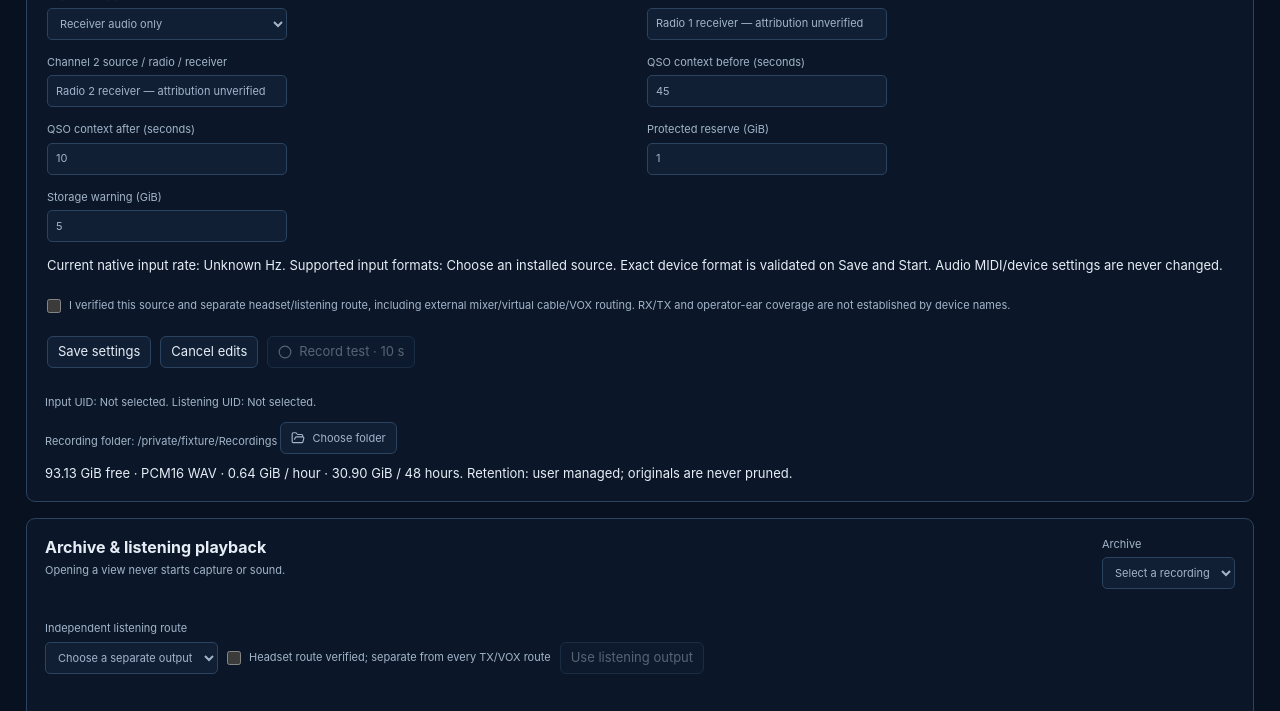
recorder operator controls › save has no implicit start and cancelled export is not reported complete
(page scrolled)
Click the button "Save settings".
click(99, 352)  # box [47,336,151,368]
(page scrolled)
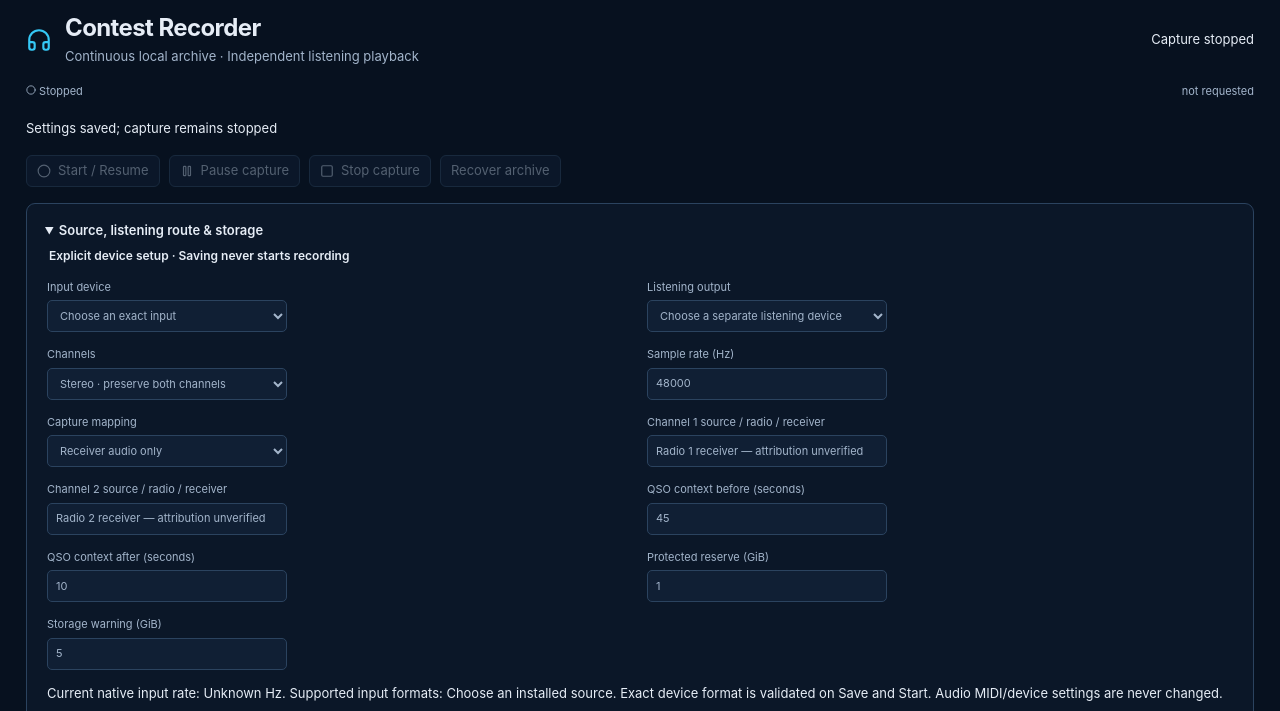
Expected: the text "Settings saved; capture remains stopped" is shown, [26,120,277,136]
